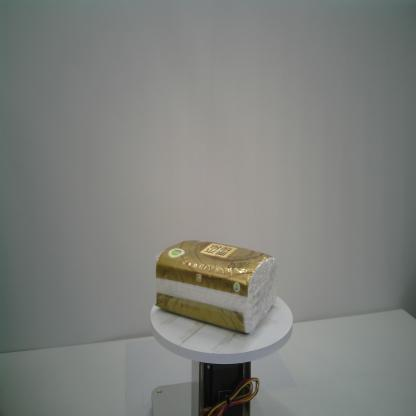Tissue: (154, 238, 278, 335)
